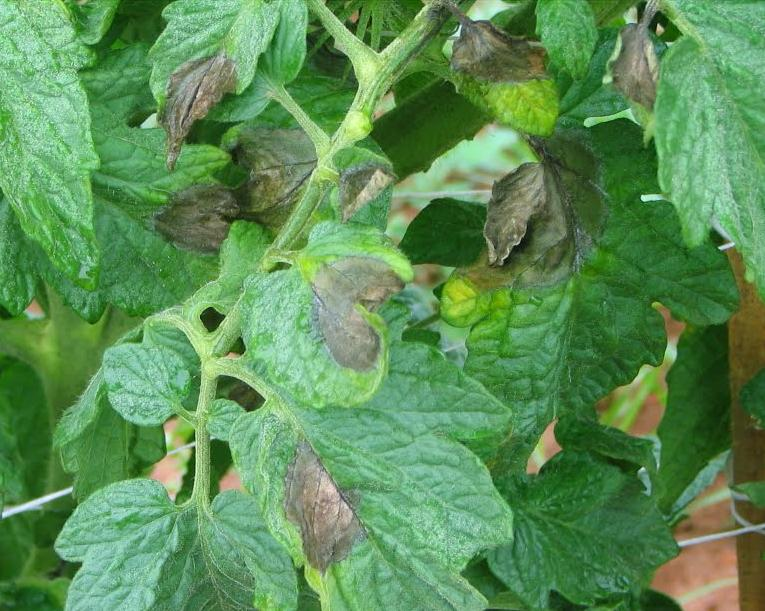Tomato leaf late blight: (456, 93, 744, 457), (224, 336, 518, 611), (237, 235, 414, 408), (443, 0, 568, 152), (156, 0, 276, 155)
